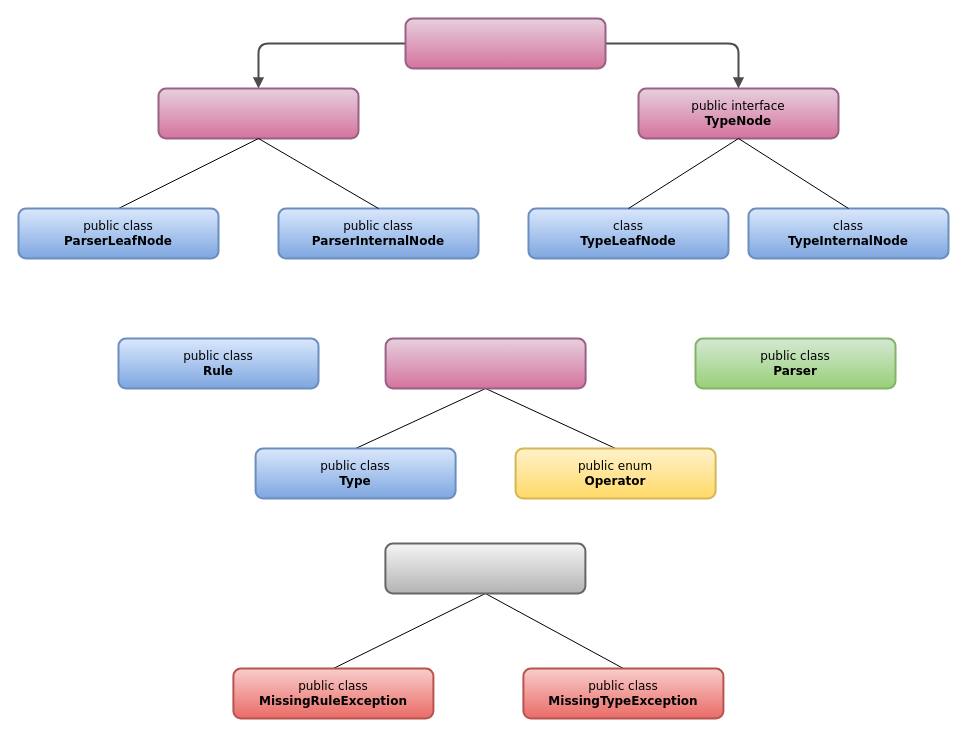
Image size: 966x736. Some labels were removed from this diagram. The box of each missing label's shape, as (x1, y1, x2, y2) in pixels:
public class Exception: (384, 542, 586, 594)
public interface Node: (404, 17, 606, 69)
public interface ParserNode: (157, 87, 359, 139)
public interface TypeTreeElement: (384, 337, 586, 389)
